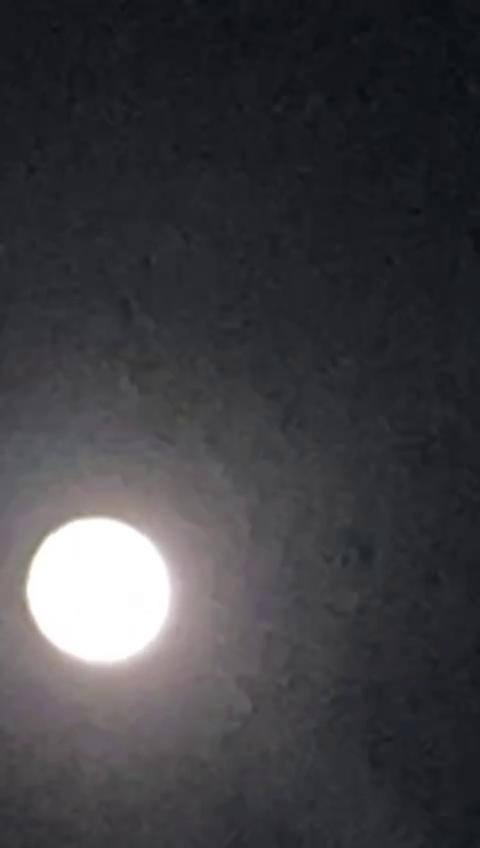moon: (29, 486, 200, 676)
